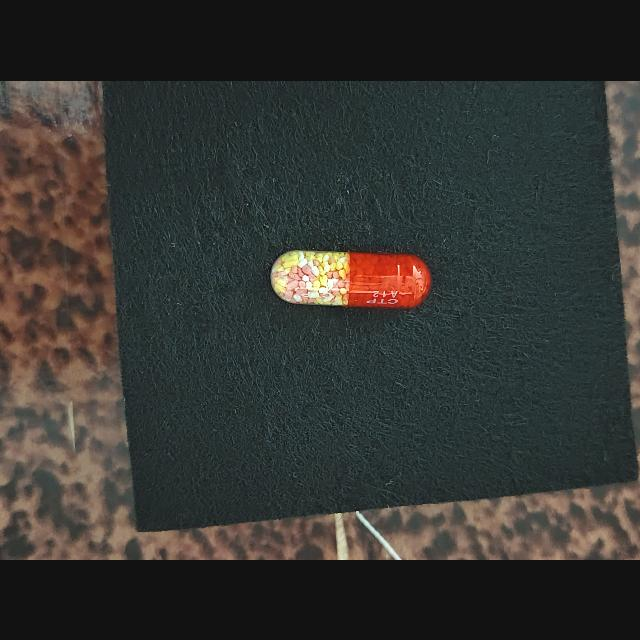Intact Capsule: (270, 249, 431, 308)
